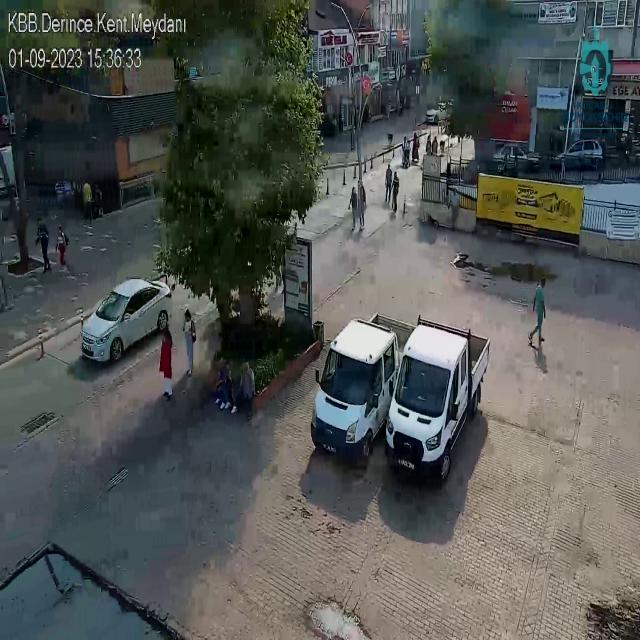Car: (79, 277, 176, 366)
Truck: (381, 314, 494, 489), (306, 308, 422, 464)
